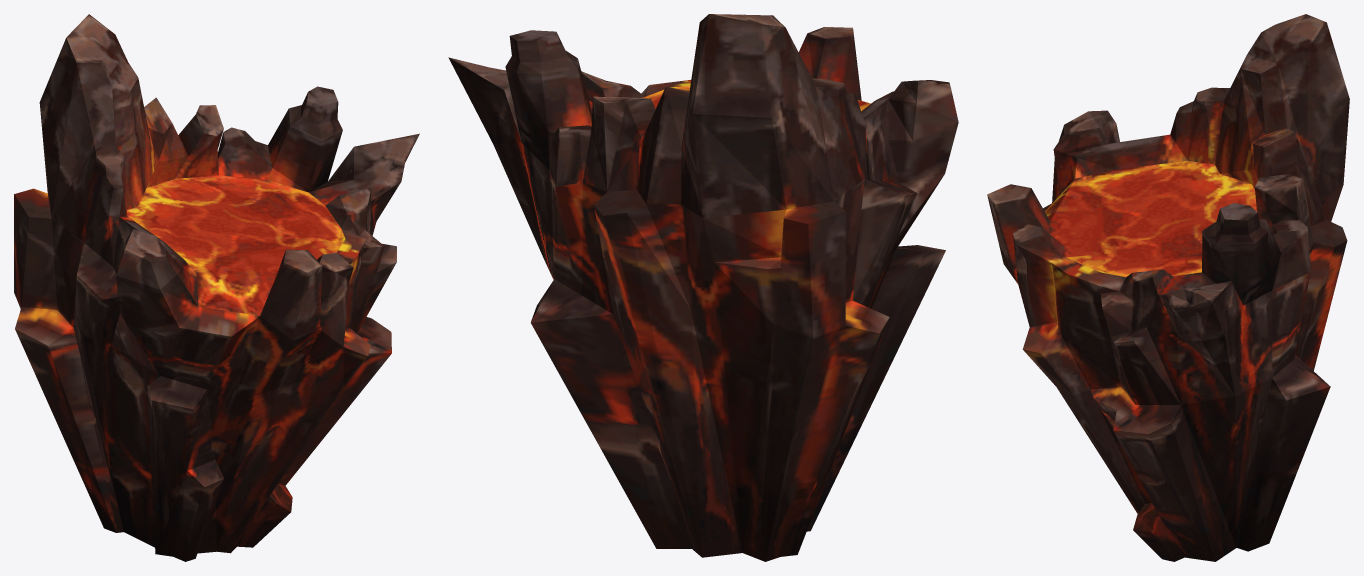
File: sn_jingyanFB_shanshi01_04.FBX
3 views of the same model, side by side, from view 1: azimuth 30°, elevation 25°; view 2: azimuth 150°, elevation 25°; view 3: azimuth 270°, elevation 25° (orthographic). The views are drawn at different scales.
Visible parts, largest first — view 1: sn_jingyanFB_shanshi01_04; view 2: sn_jingyanFB_shanshi01_04; view 3: sn_jingyanFB_shanshi01_04.
Boxes of the visible parts, x1,y1,x2,y2 form: sn_jingyanFB_shanshi01_04: (14, 14, 419, 561); sn_jingyanFB_shanshi01_04: (448, 14, 958, 561); sn_jingyanFB_shanshi01_04: (987, 14, 1349, 561).
Bounding box in the file's own units: 1715 × 1404 × 2120.
